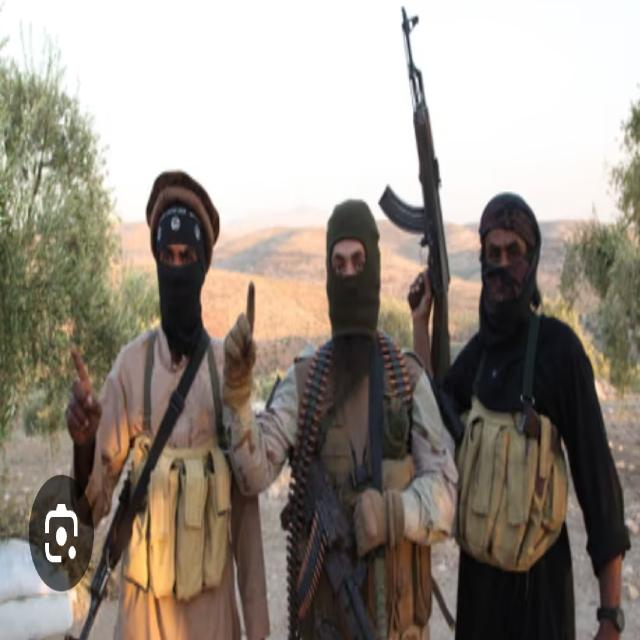Militant: (409, 151, 631, 640), (50, 164, 277, 640), (259, 179, 453, 640)
